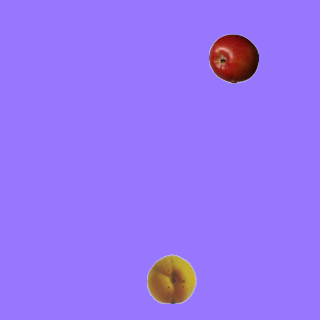Apple Braeburn: (208, 33, 258, 83)
Peach 2: (146, 253, 196, 303)
